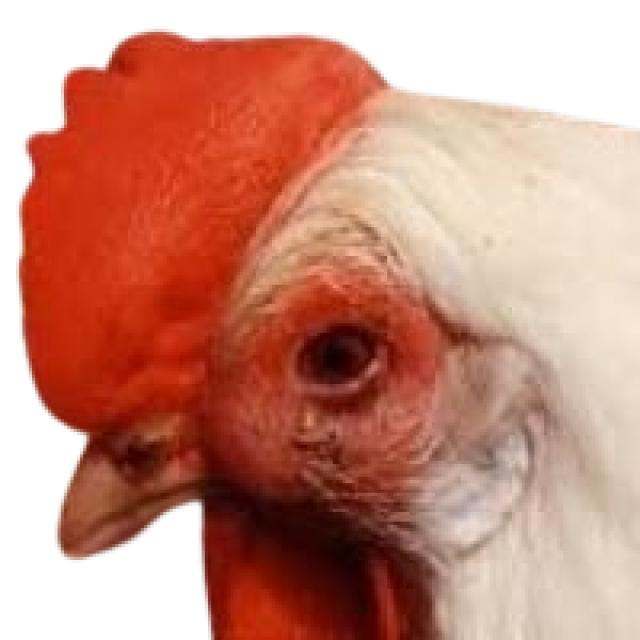Coryza: (264, 284, 428, 432)
